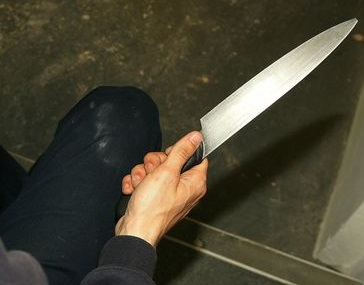knife: (121, 15, 359, 202)
